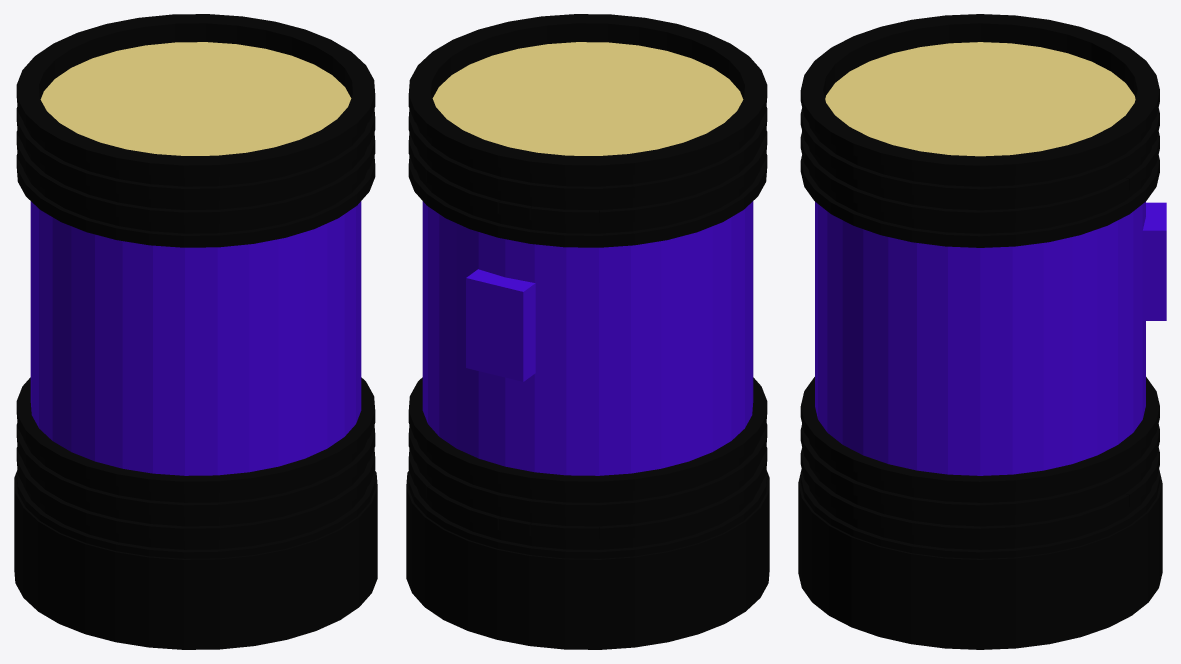
Rendered from flashlight.fbx.
The picture shows the model from 3 angles, left to right: view 1: azimuth 30°, elevation 25°; view 2: azimuth 150°, elevation 25°; view 3: azimuth 270°, elevation 25°; orthographic projection.
Visible parts, largest first — view 1: Cylinder.001, Cylinder, Cylinder.003, Cylinder.002; view 2: Cylinder, Cylinder.001, Cylinder.003, Cylinder.002, Cube; view 3: Cylinder.001, Cylinder, Cylinder.003, Cylinder.002, Cube.
Part boxes in pixels (x1,y1,x2,y2): Cylinder.001: (30,201,361,475); Cylinder: (16,14,375,247); Cylinder.003: (14,470,377,649); Cylinder.002: (16,377,375,558); Cylinder: (408,14,767,247); Cylinder.001: (422,201,753,475); Cylinder.003: (406,470,769,649); Cylinder.002: (408,377,767,558); Cube: (466,269,535,381); Cylinder.001: (815,201,1145,475); Cylinder: (800,14,1159,247); Cylinder.003: (798,469,1162,649); Cylinder.002: (800,377,1159,558); Cube: (1142,202,1166,320).
Size of the model in its own units: 220 by 322 by 223.
